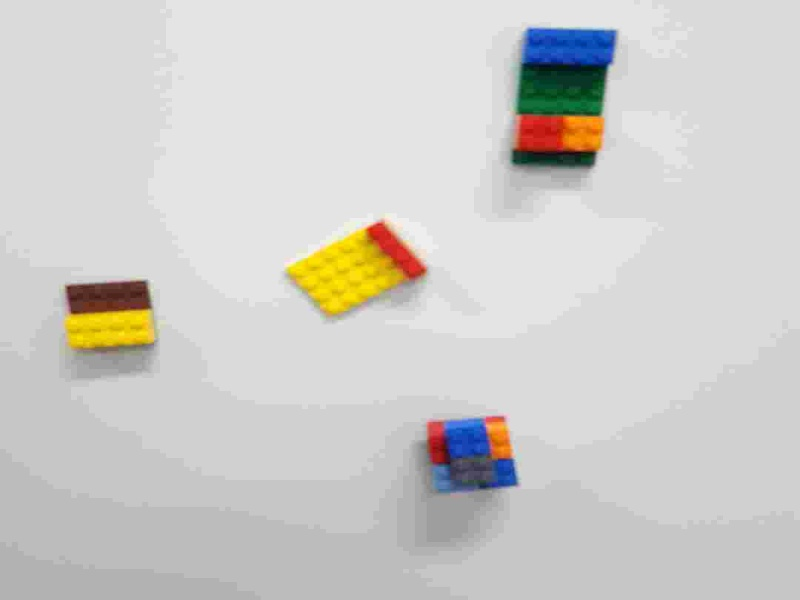Lego1: (61, 275, 166, 352)
Lego2: (281, 215, 433, 317)
